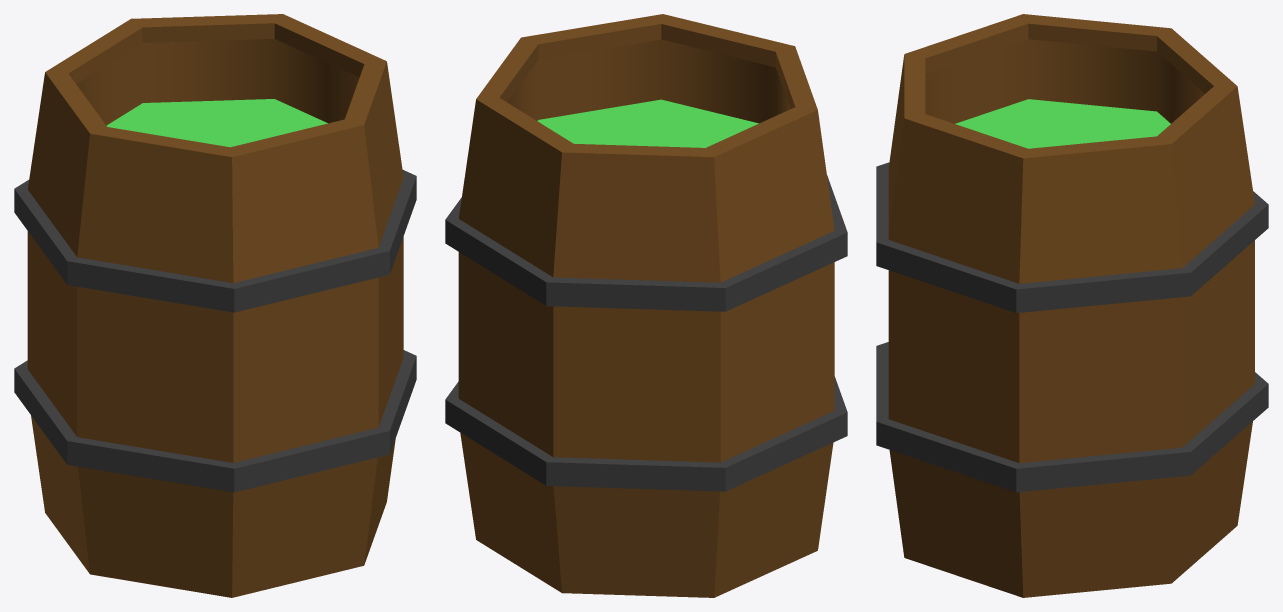
Rendered from light_barrel_with_grog.fbx.
The picture shows the model from 3 angles, left to right: view 1: azimuth 30°, elevation 25°; view 2: azimuth 150°, elevation 25°; view 3: azimuth 270°, elevation 25°; orthographic projection.
Visible parts, largest first — view 1: Cylinder.003; view 2: Cylinder.003; view 3: Cylinder.003.
Part boxes in pixels (x1,y1,x2,y2): Cylinder.003: (14, 14, 416, 597); Cylinder.003: (445, 14, 847, 597); Cylinder.003: (876, 14, 1268, 597).
Size of the model in its own units: 178 by 215 by 174.
